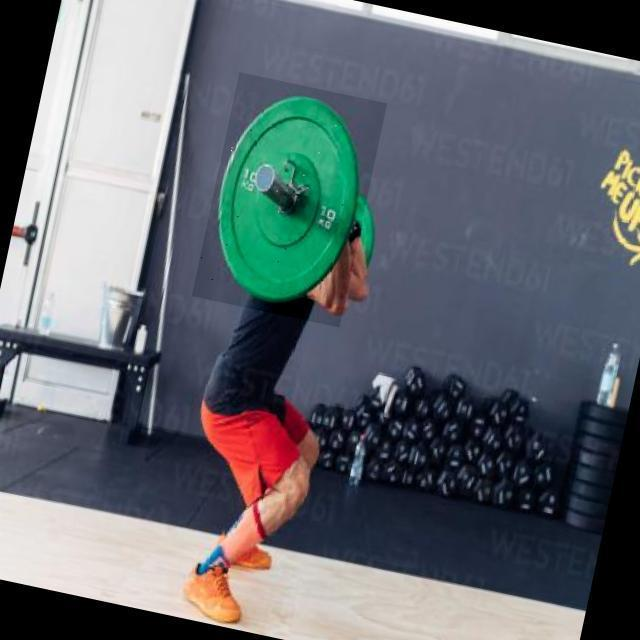barbell: (193, 73, 388, 328)
